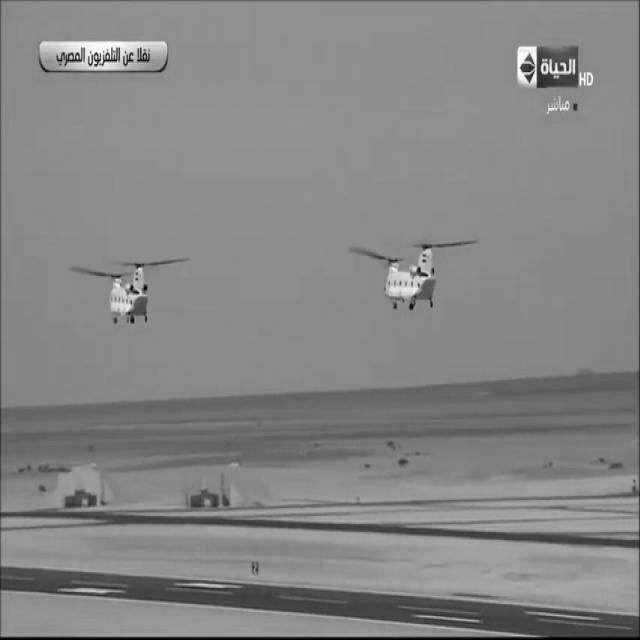helikopter: (342, 224, 478, 336), (72, 232, 195, 348)
